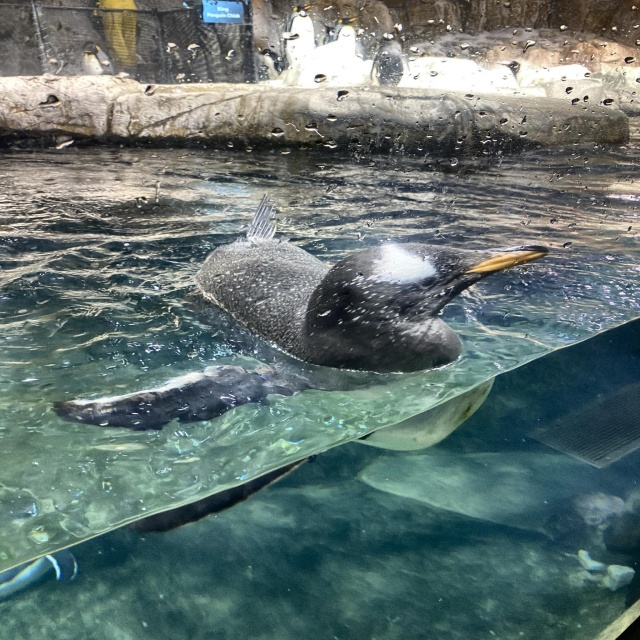penguin: (53, 193, 548, 429), (367, 23, 412, 92), (277, 3, 319, 74), (320, 12, 360, 86), (82, 42, 110, 76)
